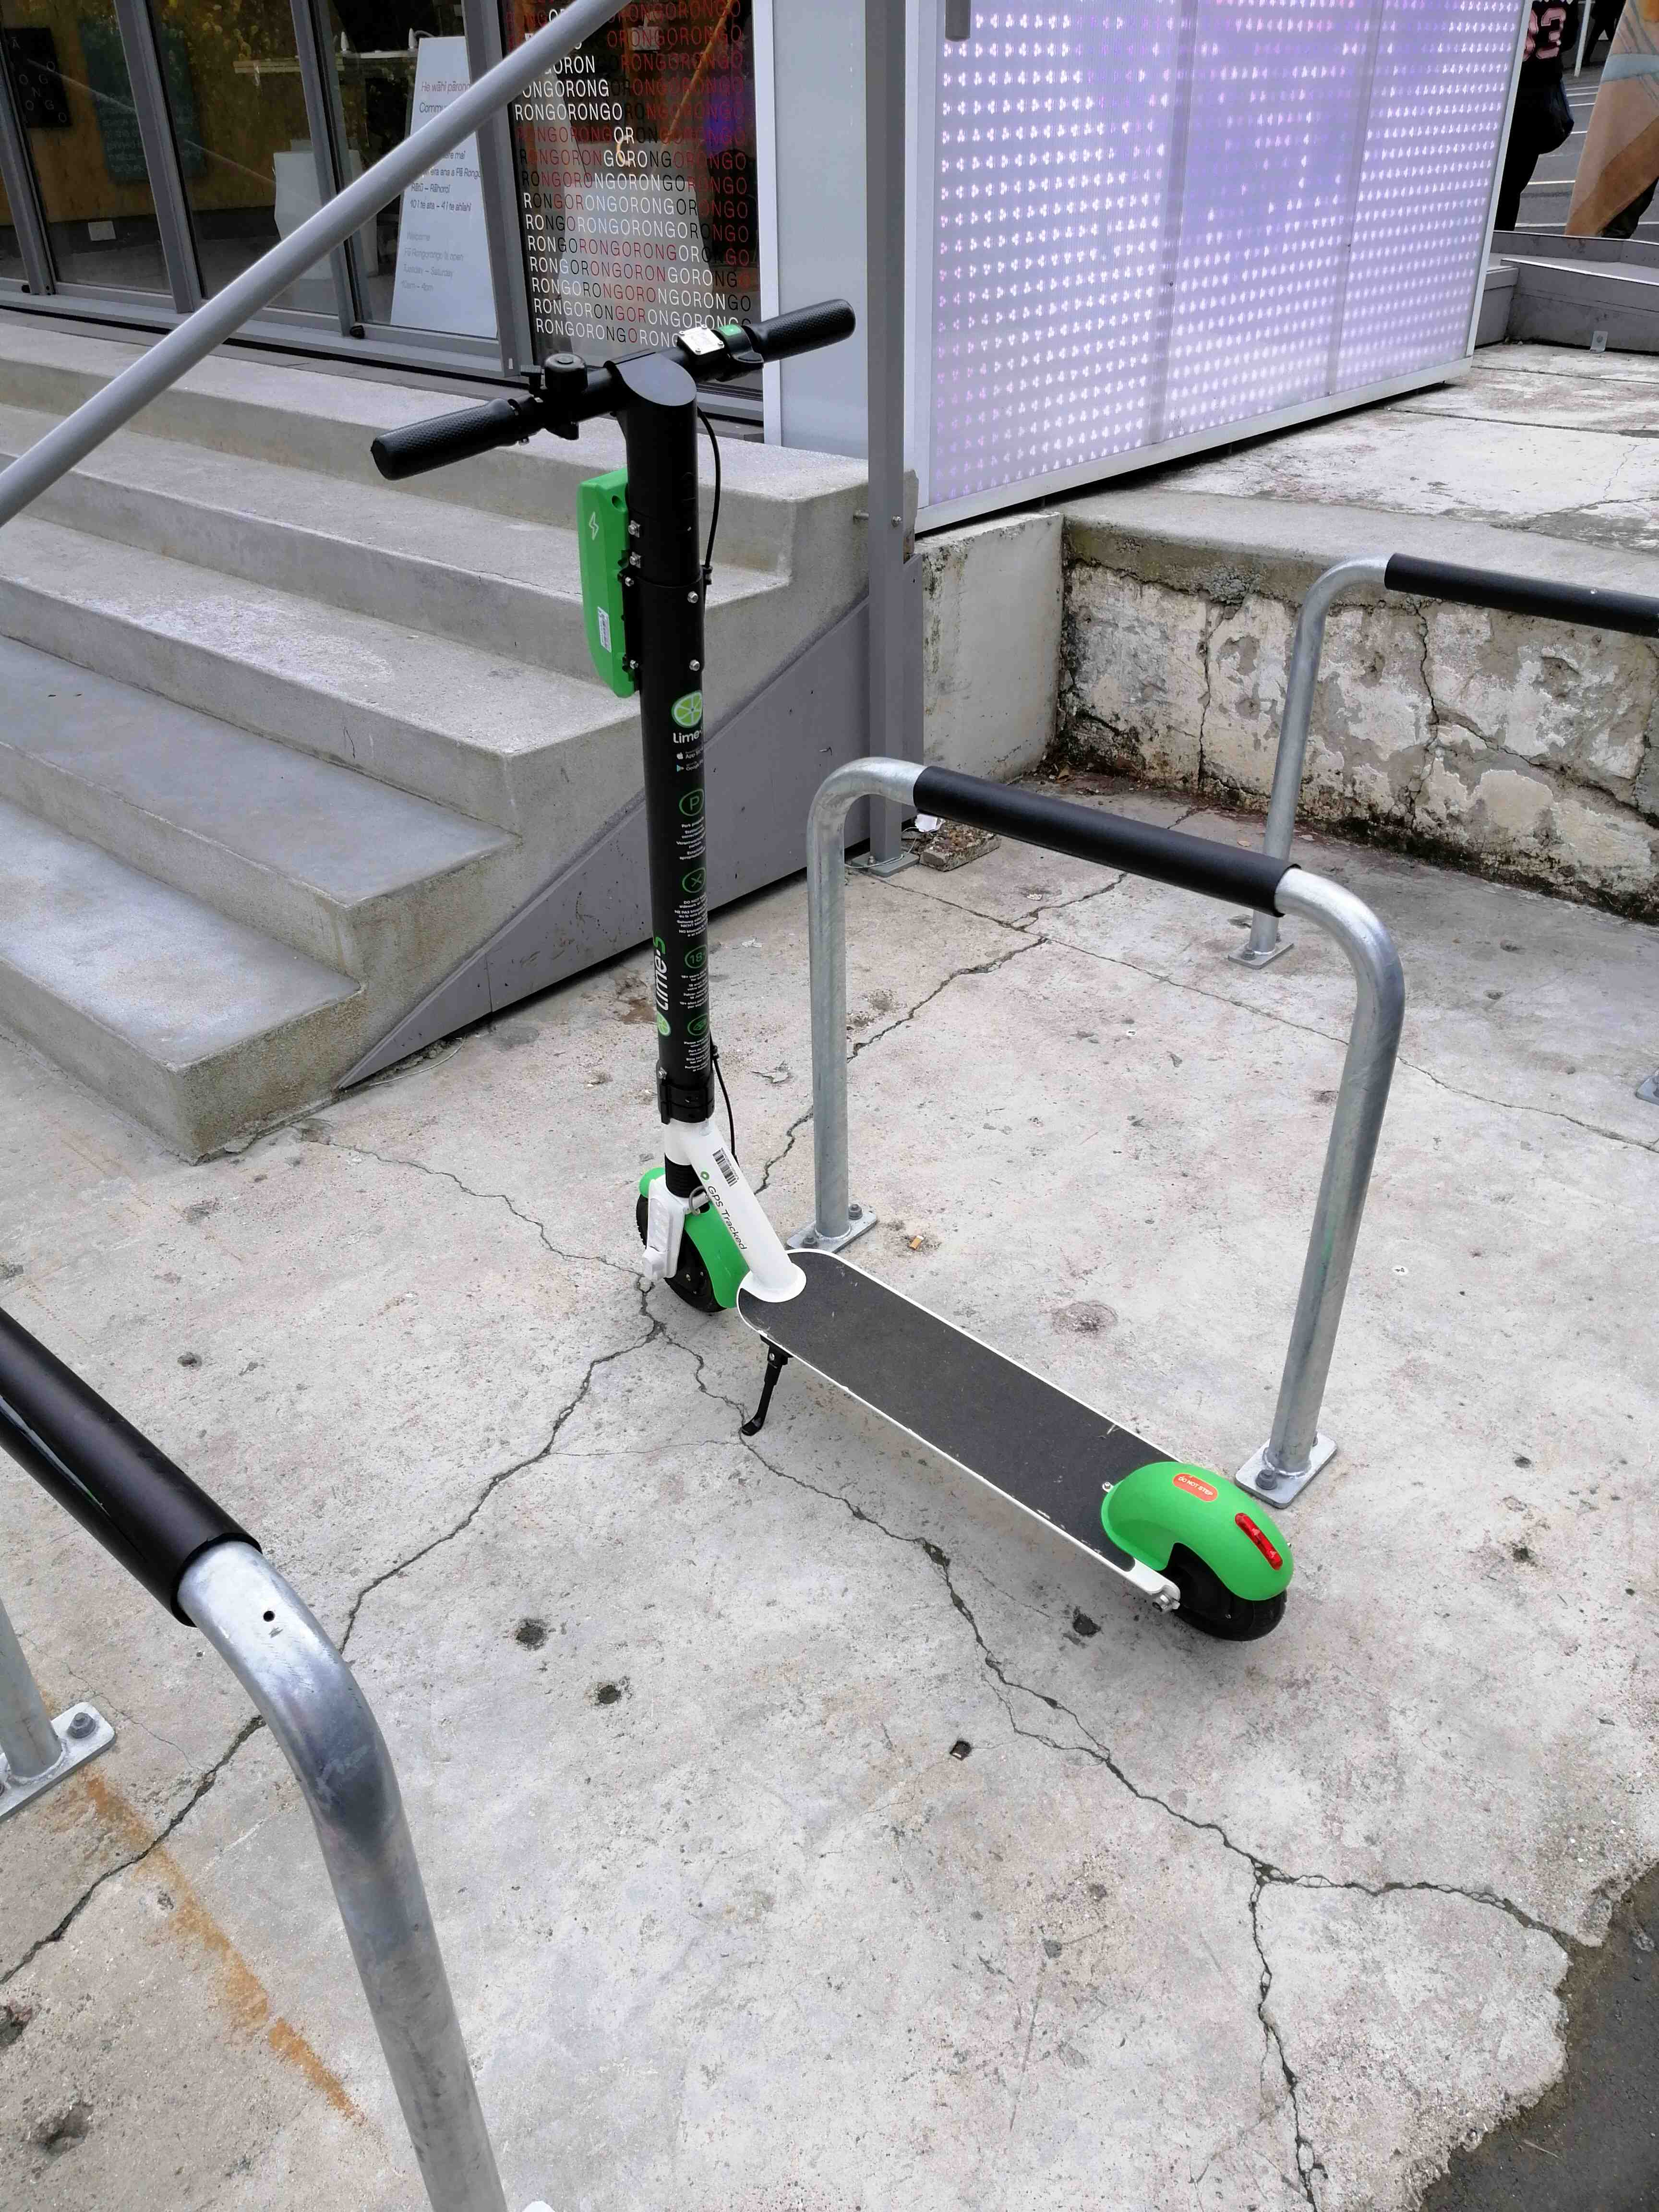scooter: (352, 293, 1349, 1644)
